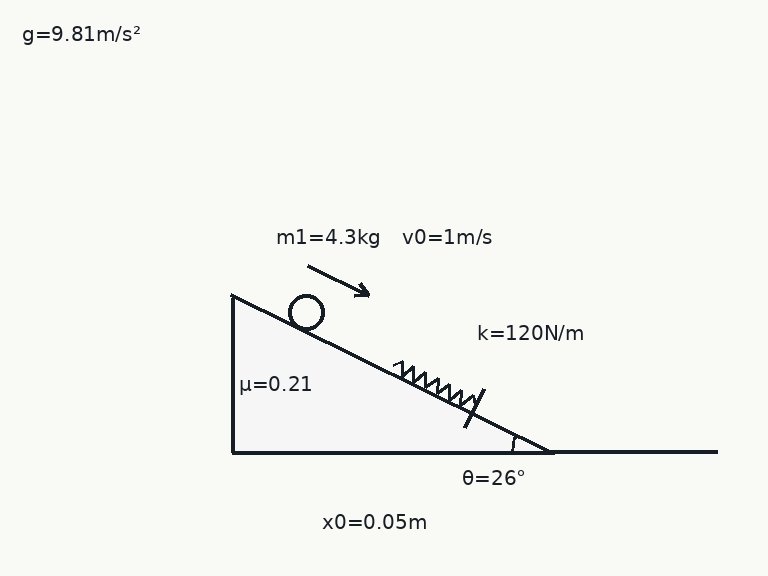ball: (286, 292, 326, 332)
ramp: (229, 294, 554, 454)
spring: (390, 359, 478, 407)
